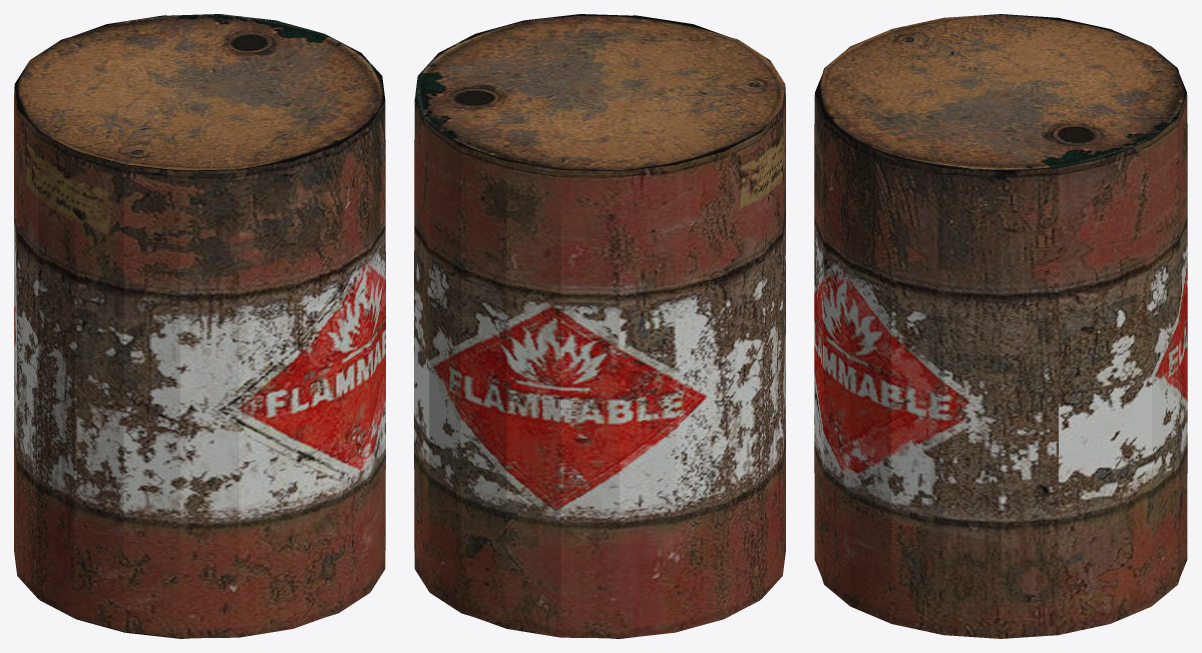
The model's file is Barrel_01.fbx.
3 views of the same model, side by side, from view 1: azimuth 30°, elevation 25°; view 2: azimuth 150°, elevation 25°; view 3: azimuth 270°, elevation 25° (orthographic).
Parts seen in each view (by area): view 1: polySurface9, polySurface2, polySurface21, polySurface5, polySurface4, polySurface13, polySurface20, polySurface19, polySurface17; view 2: polySurface9, polySurface2, polySurface21, polySurface5, polySurface4, polySurface14, polySurface20, polySurface19, polySurface17; view 3: polySurface5, polySurface17, polySurface19, polySurface8, polySurface4, polySurface2, polySurface13, polySurface14, polySurface20.
Boxes of the visible parts, x1,y1,x2,y2 form: polySurface9: [14, 219, 305, 486]; polySurface2: [14, 37, 260, 301]; polySurface21: [14, 378, 306, 637]; polySurface5: [167, 14, 385, 321]; polySurface4: [71, 15, 339, 227]; polySurface13: [267, 264, 373, 482]; polySurface20: [40, 486, 325, 638]; polySurface19: [306, 459, 385, 616]; polySurface17: [306, 322, 385, 485]; polySurface9: [494, 219, 785, 486]; polySurface2: [539, 37, 785, 301]; polySurface21: [493, 378, 785, 637]; polySurface5: [414, 14, 632, 321]; polySurface4: [460, 15, 728, 227]; polySurface14: [426, 264, 532, 482]; polySurface20: [474, 486, 759, 638]; polySurface19: [414, 459, 493, 616]; polySurface17: [414, 322, 493, 485]; polySurface5: [814, 118, 1187, 343]; polySurface17: [817, 344, 1184, 536]; polySurface19: [817, 430, 1184, 638]; polySurface8: [858, 287, 1143, 422]; polySurface4: [814, 72, 1187, 131]; polySurface2: [822, 14, 1179, 73]; polySurface13: [814, 212, 856, 425]; polySurface14: [1145, 212, 1187, 425]; polySurface20: [814, 428, 1187, 577].
Bounding box in the file's own units: 2.44 × 3.38 × 2.44.
Materials: 1 (1 with a texture image).
